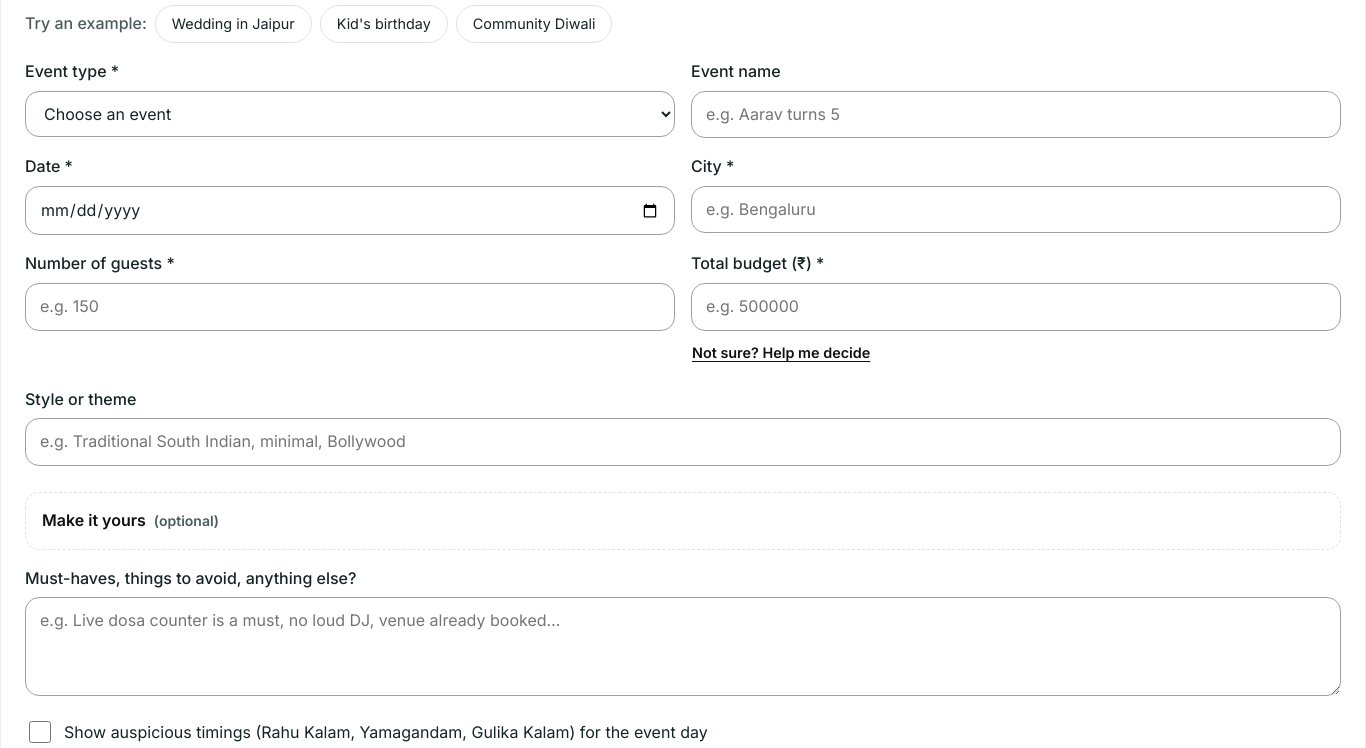
EventForm › turns on auspicious timings for traditional events
Check: the checkbox labelled "auspicious timings" is not checked, box [29,721,51,743]
Select "Housewarming (Griha Pravesh)" in the dropdown labelled "Event type *": {"x": 350, "y": 114} [25,91,675,137]
(page scrolled)
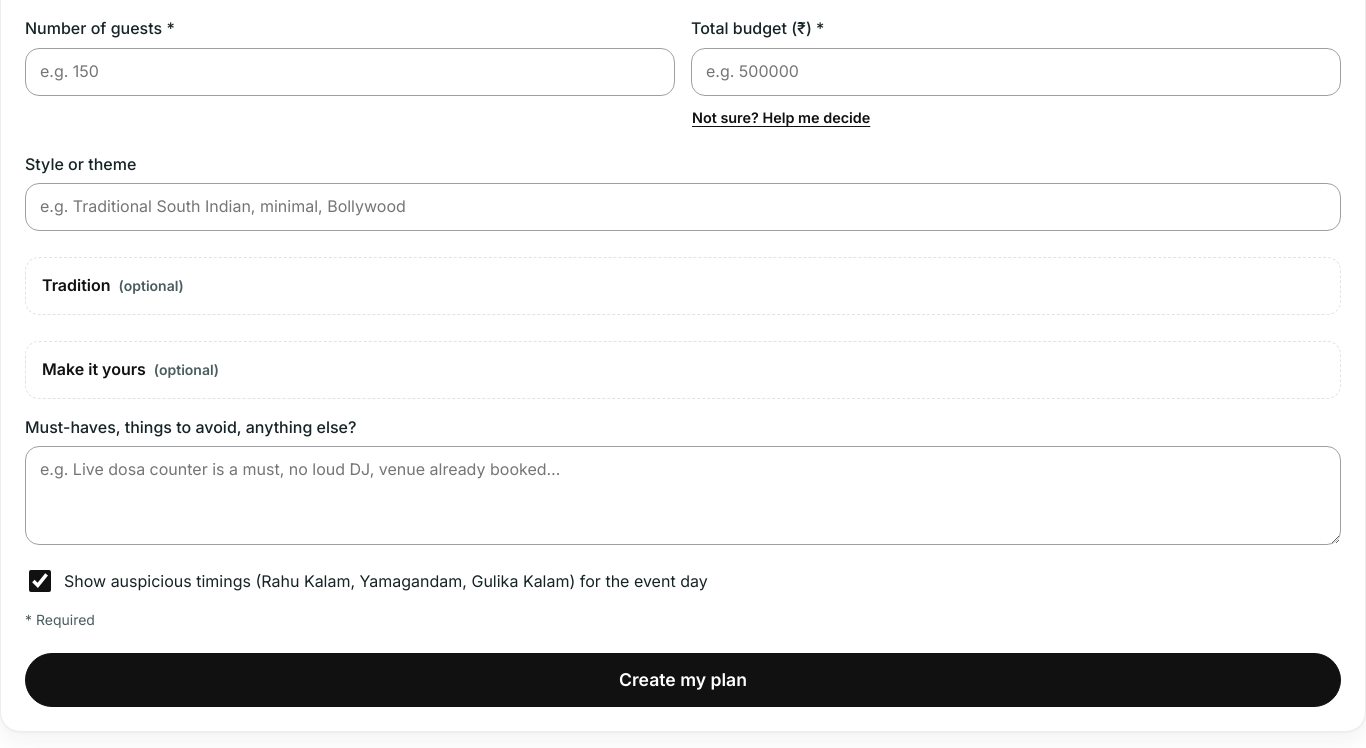
Check: the checkbox labelled "auspicious timings" is checked, box [29,570,51,592]
